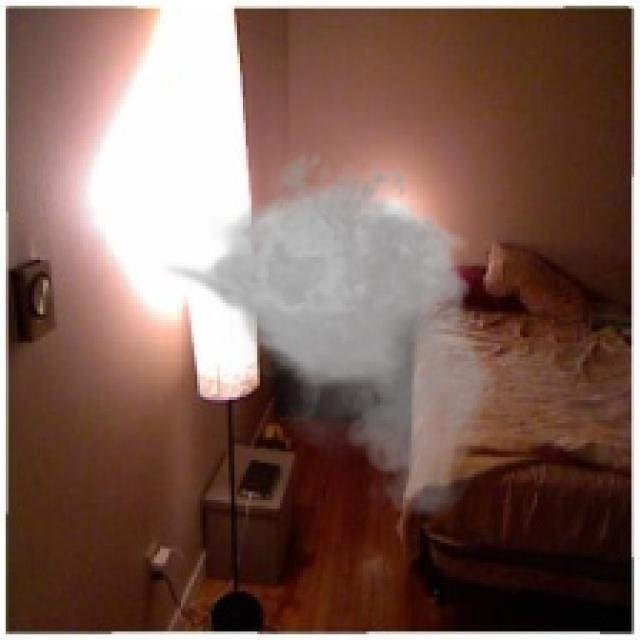smoke: (160, 140, 506, 523)
